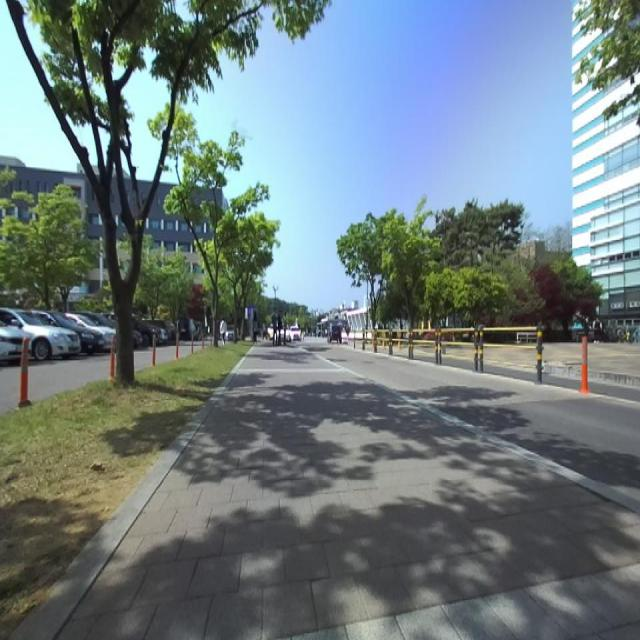sidewalk: (51, 345, 640, 640)
